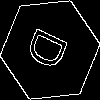D: (25, 25, 77, 77)
